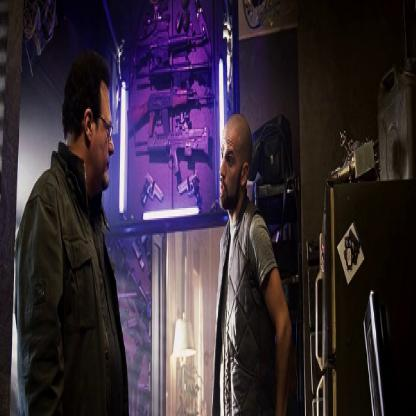Guns: (126, 0, 216, 205)
